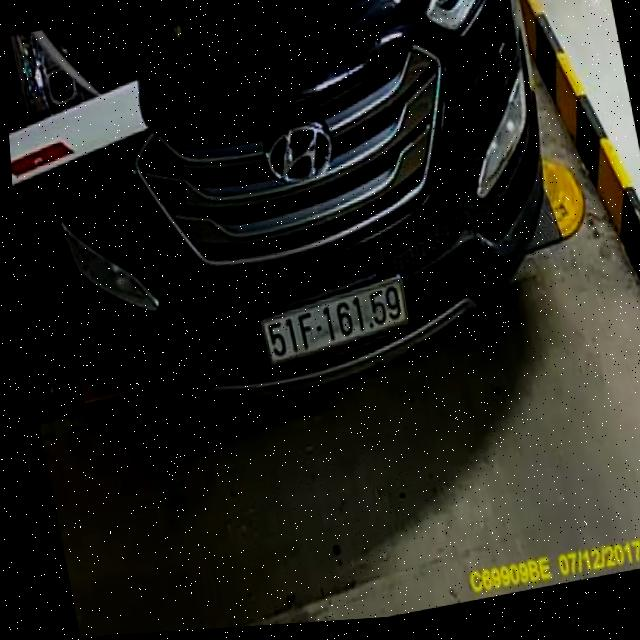car: (1, 0, 590, 441)
plate: (258, 275, 417, 371)
